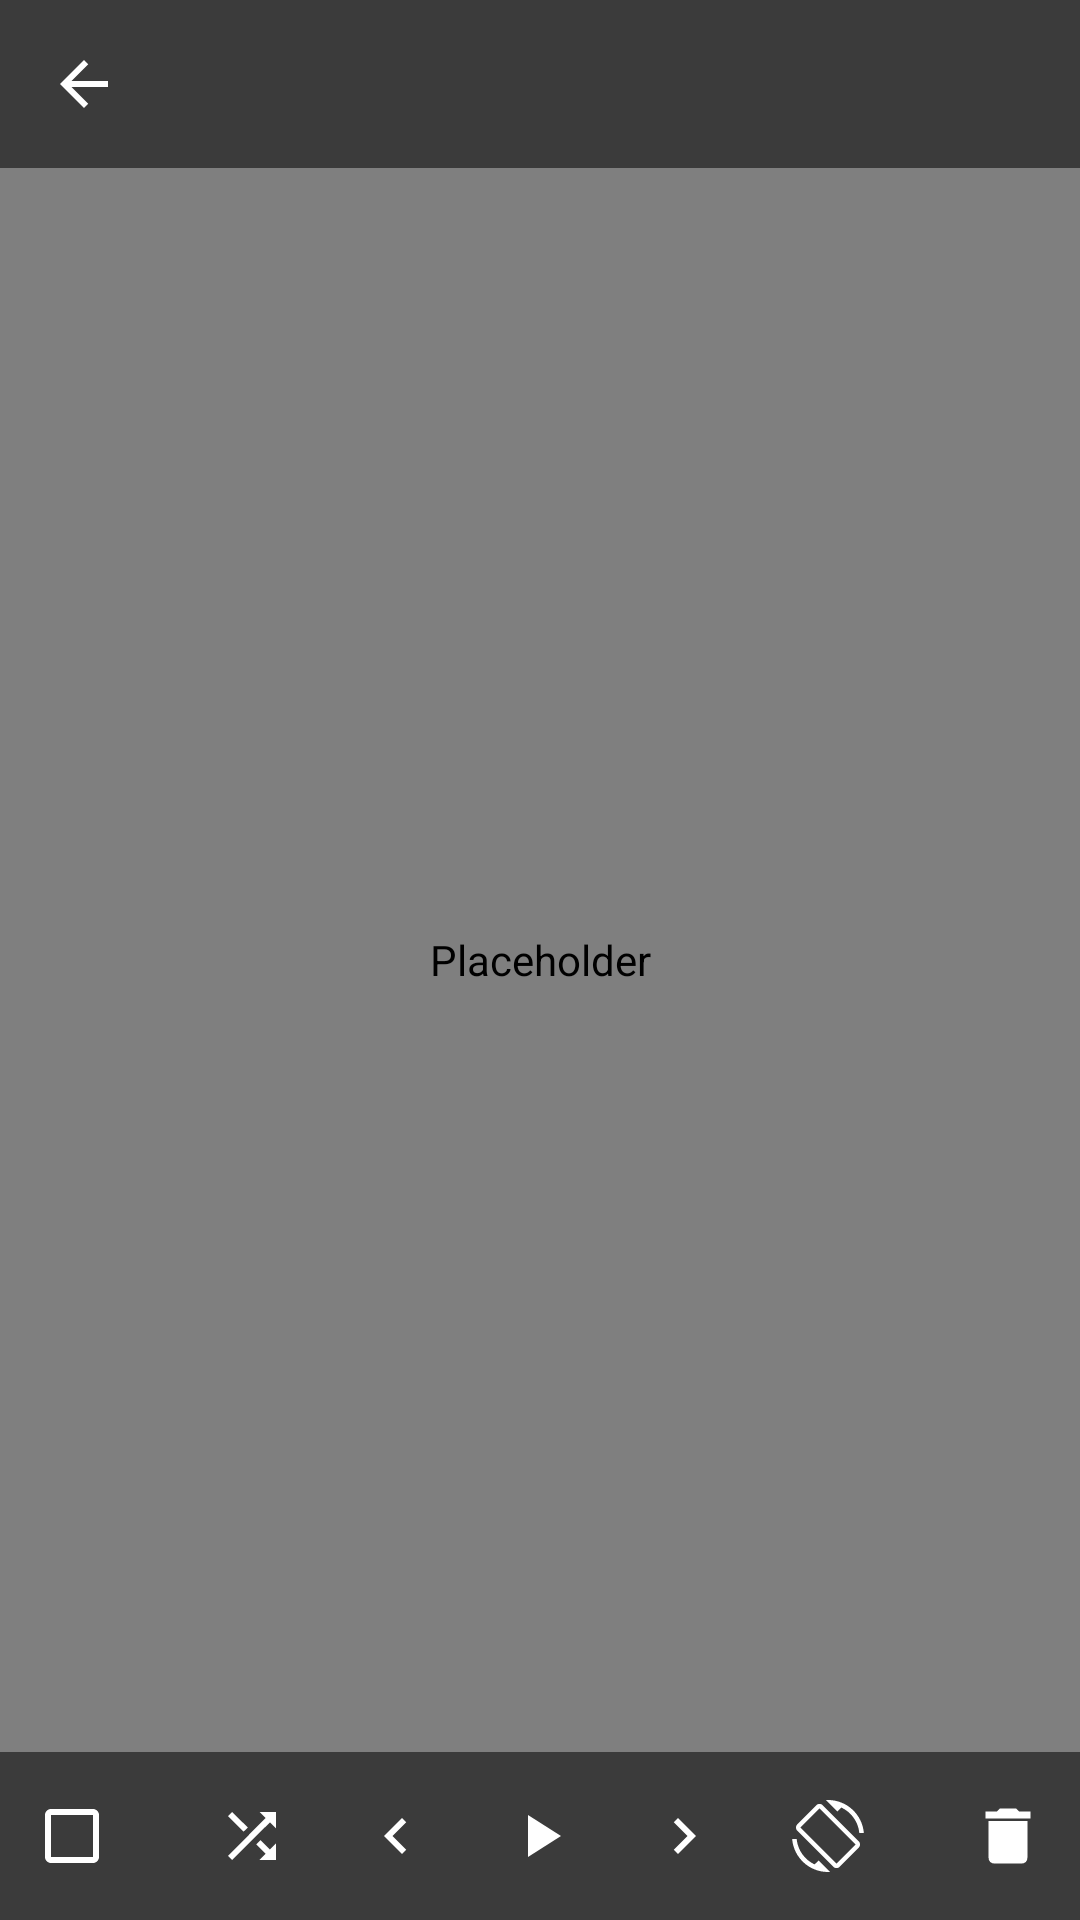

Locate icon controls on the screen. Image size 1080 x 1920, boxes as (x1, y1, x2, y2).
Delete: (985, 1808, 1031, 1864)
Rotate to fit: (792, 1800, 864, 1872)
Shuffle: (228, 1812, 276, 1860)
Slideshow: (528, 1815, 561, 1857)
